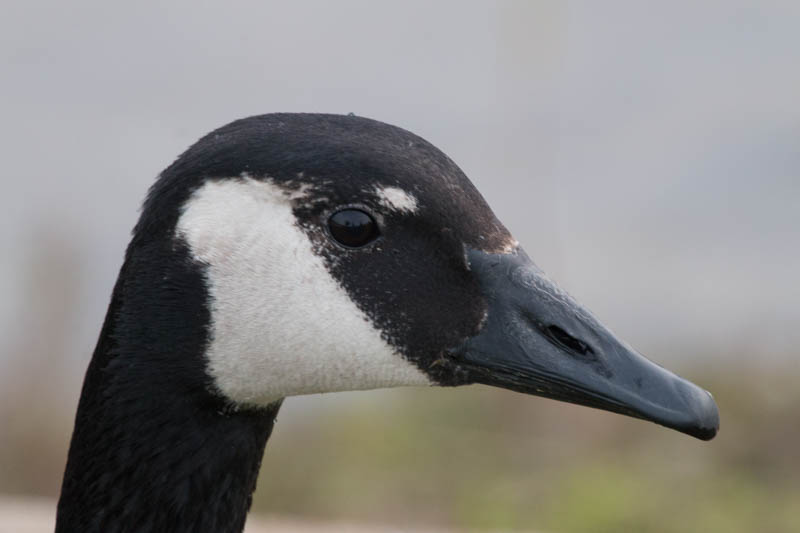goose-head: (108, 111, 721, 445)
